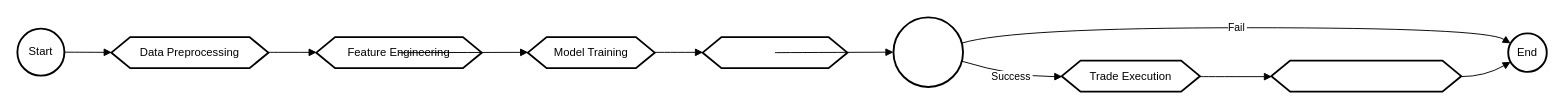
The diagram is 1563 pixels wide and 108 high, and some of its shapes have lost their labels. Here are the shapes that lost their labels. From the top down, the centre of each, then its label:
At pixel 774 52: "Model Evaluation".
At pixel 928 51: "Decision".
At pixel 1366 75: "Profit/Loss Calculations".
